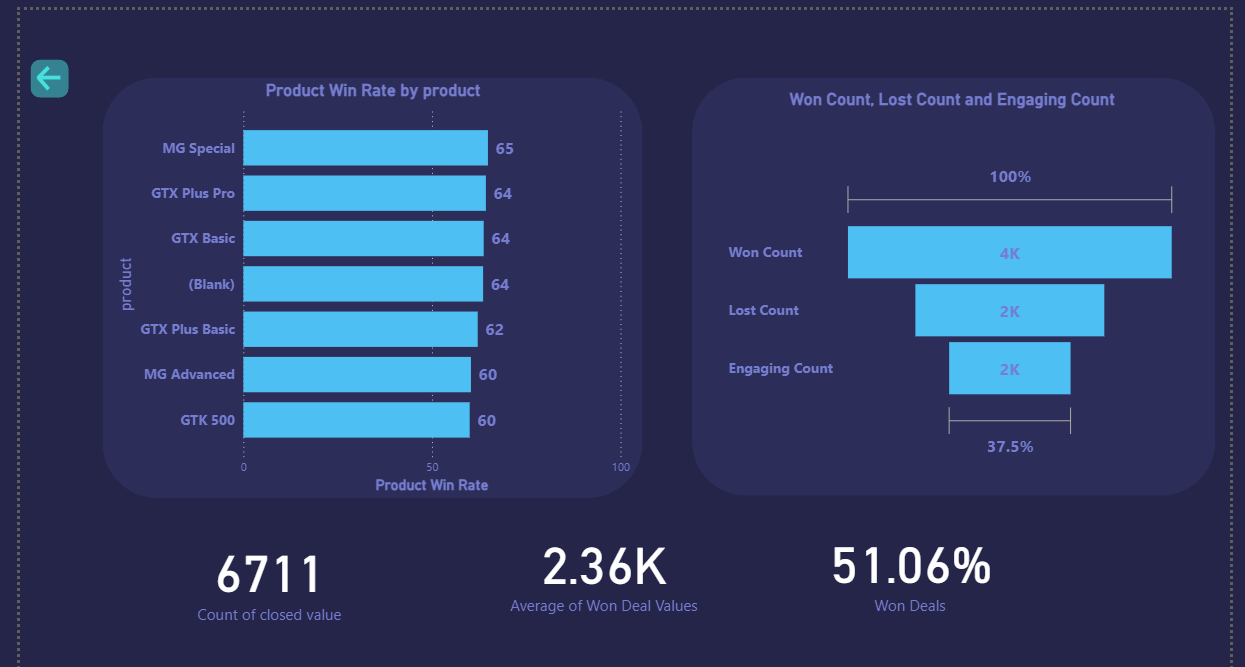

The dashboard page shown, as its layout file describes it:
{"tool":"powerbi","page":{"name":"Page 3","canvas":[1280,720],"ordinal":2},"visuals":[{"type":"card","fields":{"Values":["meaures.Average Won Deal Value"]},"box":[477.7,461.5,280.1,259.1],"z":0},{"type":"card","fields":{"Values":["meaures.Won Deals"]},"box":[801.5,516.5,280.1,150.6],"z":1000},{"type":"card","fields":{"Values":["CountNonNull(sales_pipeline.closed value)"]},"box":[87.4,489,353,223.5],"z":2000},{"type":"shape","box":[87.4,71.2,571.6,445.3],"z":2500,"group":"g2"},{"type":"shape","box":[710.8,71.2,553.8,442.7],"z":2500,"group":"g1"},{"type":"barChart","fields":{"Y":["meaures.Product Win Rate"],"Category":["products.product"]},"box":[97.1,74.4,553.8,442],"z":3000,"group":"g2"},{"type":"funnel","fields":{"Y":["meaures.Won Count","meaures.Lost Count","meaures.Engaging Count"]},"box":[744.8,83.3,484.1,446.1],"z":3000,"group":"g1"},{"type":"group","id":"g1","title":"Group 1","box":[710.8,71.2,553.8,458.2],"z":5000},{"type":"group","id":"g2","title":"Group 2","box":[87.4,71.2,571.6,445.3],"z":5001},{"type":"actionButton","box":[11.3,51.8,40.5,40.5],"z":5002}]}

Visuals, with their boxes on the page's 1280x720 design canvas (x1, y1, x2, y2). These are canvas units, not pixel positions in the 1245x667 screenshot, which may show the page scaled, cropped or inside an application window:
card - meaures.Average Won Deal Value: left=478, top=462, right=758, bottom=721
card - meaures.Won Deals: left=802, top=516, right=1082, bottom=667
card - CountNonNull(sales_pipeline.closed value): left=87, top=489, right=440, bottom=712
shape: left=87, top=71, right=659, bottom=516
shape: left=711, top=71, right=1265, bottom=514
barChart - meaures.Product Win Rate x products.product: left=97, top=74, right=651, bottom=516
funnel - meaures.Won Count x meaures.Lost Count: left=745, top=83, right=1229, bottom=529
"Group 1" group: left=711, top=71, right=1265, bottom=529
"Group 2" group: left=87, top=71, right=659, bottom=516
actionButton: left=11, top=52, right=52, bottom=92
